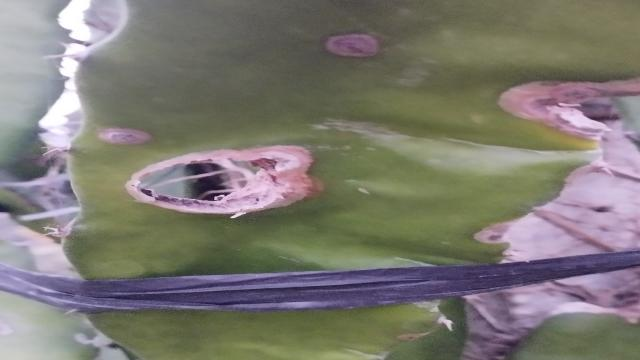stemcanker: (322, 29, 383, 62), (86, 125, 155, 152)
